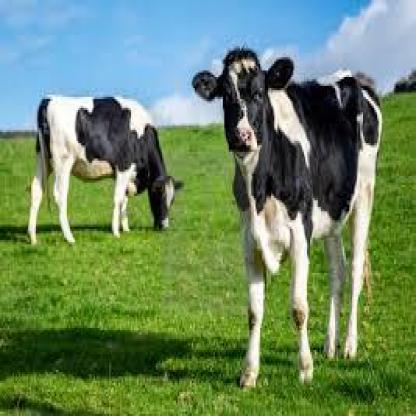cow: (192, 48, 382, 383), (27, 93, 185, 248)
